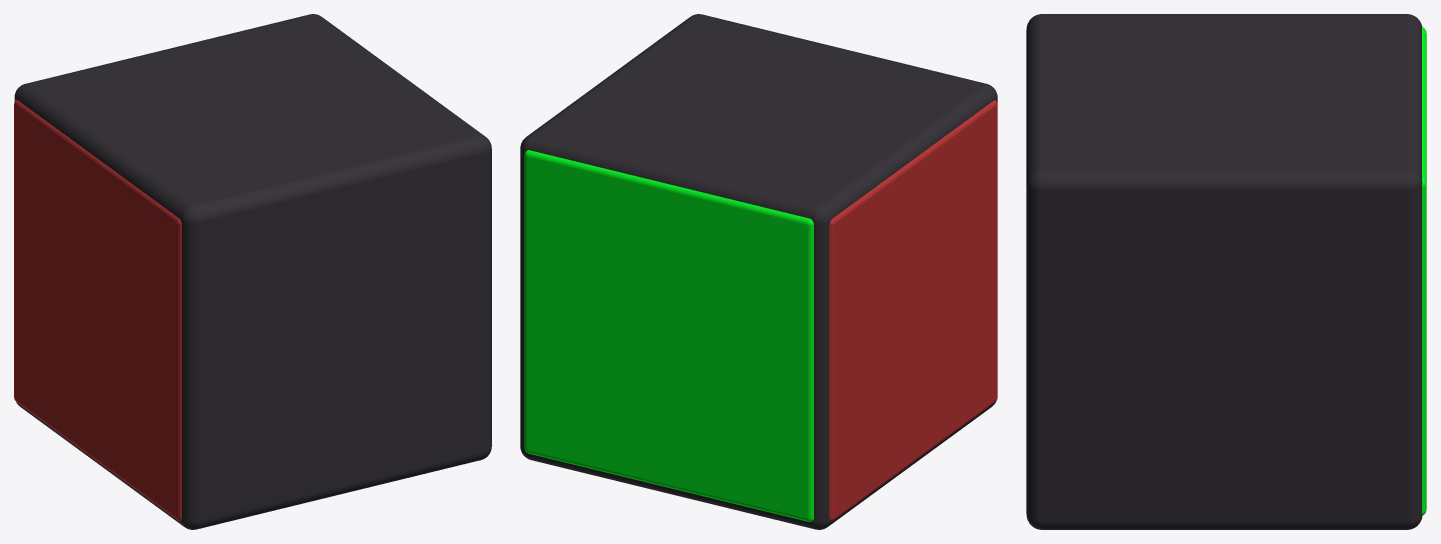
The model's file is rgEdge.obj.
The picture shows the model from 3 angles, left to right: view 1: azimuth 30°, elevation 25°; view 2: azimuth 150°, elevation 25°; view 3: azimuth 270°, elevation 25°; orthographic projection. The views are drawn at different scales.
Visible parts, largest first — view 1: 000_Base, 001_red; view 2: 002_green, 000_Base, 001_red; view 3: 000_Base, 002_green.
Part boxes in pixels (x1=…): 000_Base: x1=14, y1=14, x2=491, y2=529; 001_red: x1=14, y1=99, x2=181, y2=521; 002_green: x1=524, y1=150, x2=813, y2=521; 000_Base: x1=520, y1=14, x2=997, y2=529; 001_red: x1=829, y1=100, x2=997, y2=521; 000_Base: x1=1026, y1=14, x2=1422, y2=529; 002_green: x1=1422, y1=27, x2=1426, y2=515.
Bounding box in the file's own units: 101 × 100 × 101.
